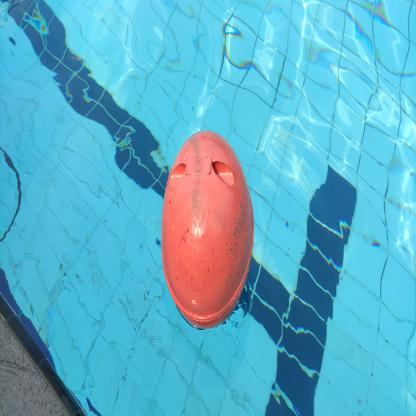red_buoy: (159, 126, 257, 335)
